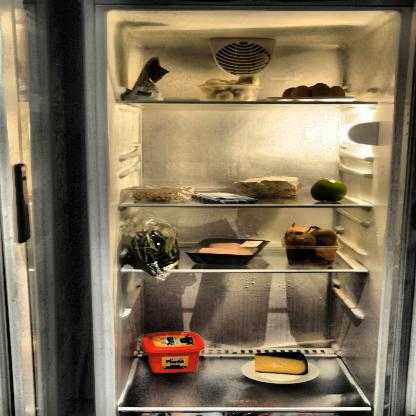apple: (310, 180, 351, 202)
butter: (140, 329, 206, 375)
cheese: (252, 349, 312, 376)
chicken: (192, 237, 266, 265)
chocolate: (192, 191, 256, 206)
eggs: (280, 82, 350, 100)
green_beans: (124, 228, 180, 278)
mushrooms: (201, 74, 259, 102)
onion: (286, 223, 337, 265)
shrimp: (132, 188, 186, 201)
